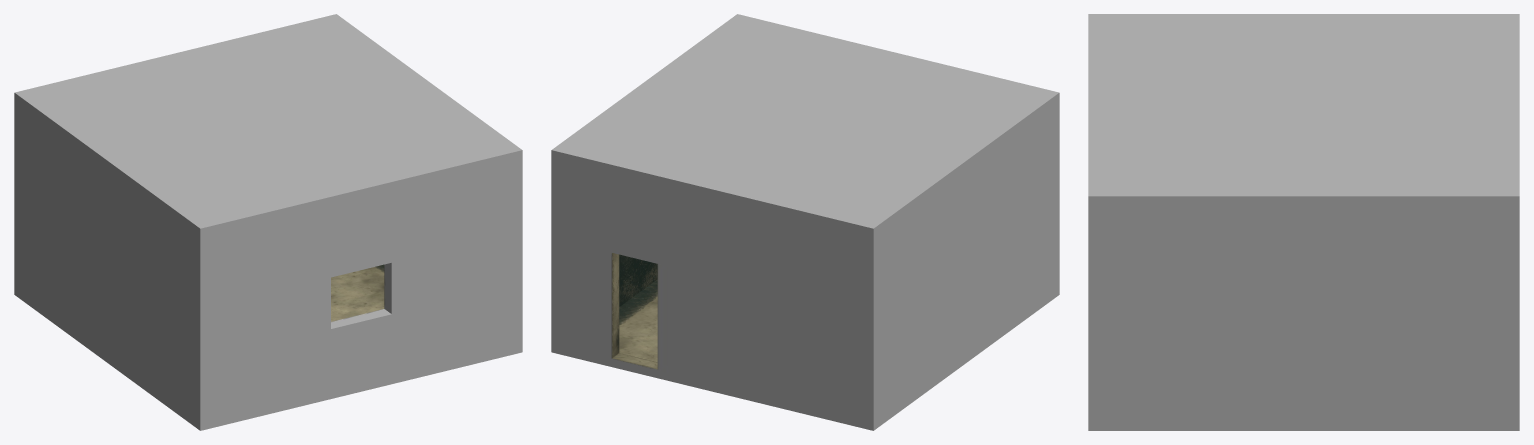
File: BrainEscape.Room.UV.fbx
3 views of the same model, side by side, from view 1: azimuth 30°, elevation 25°; view 2: azimuth 150°, elevation 25°; view 3: azimuth 270°, elevation 25° (orthographic). The views are drawn at different scales.
Visible parts, largest first — view 1: Room, Ground; view 2: Room, Ground; view 3: Room.
Part boxes in pixels (x1,y1,x2,y2): Room: [14, 14, 522, 430]; Ground: [331, 264, 384, 321]; Room: [551, 14, 1059, 430]; Ground: [619, 279, 657, 362]; Room: [1088, 14, 1519, 430].
Size of the model in its own units: 6.63 by 3.98 by 6.63.
